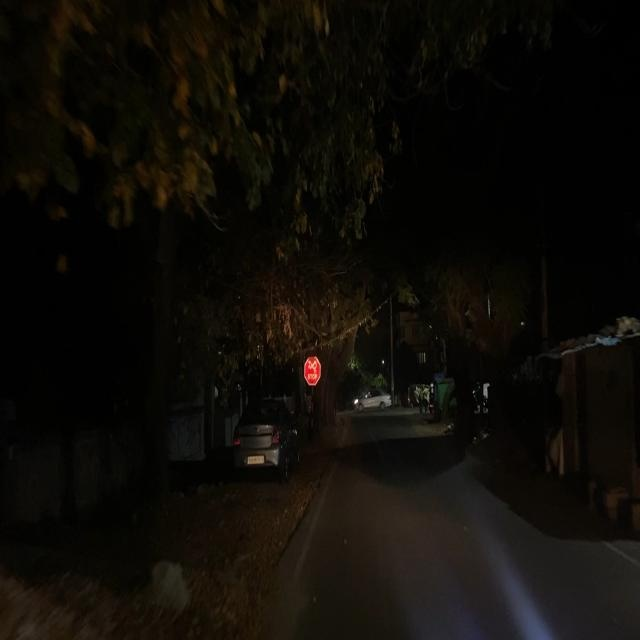bien_cam: (302, 354, 321, 389)
